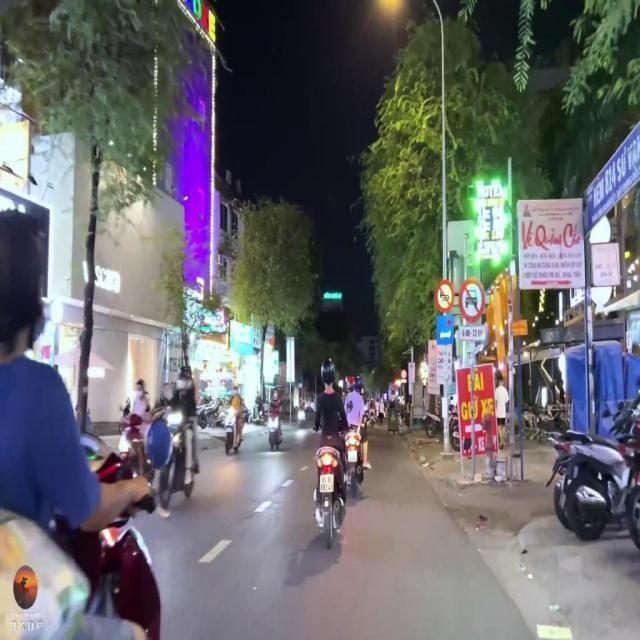103a-cam-oto: (458, 278, 486, 322)
128-cam-su-dung-coi: (434, 279, 454, 314)
